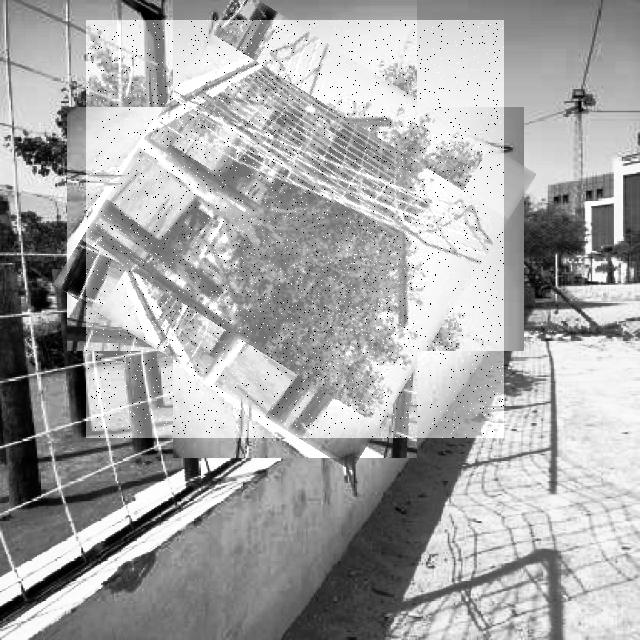anomaly-fence: (86, 20, 504, 438)
